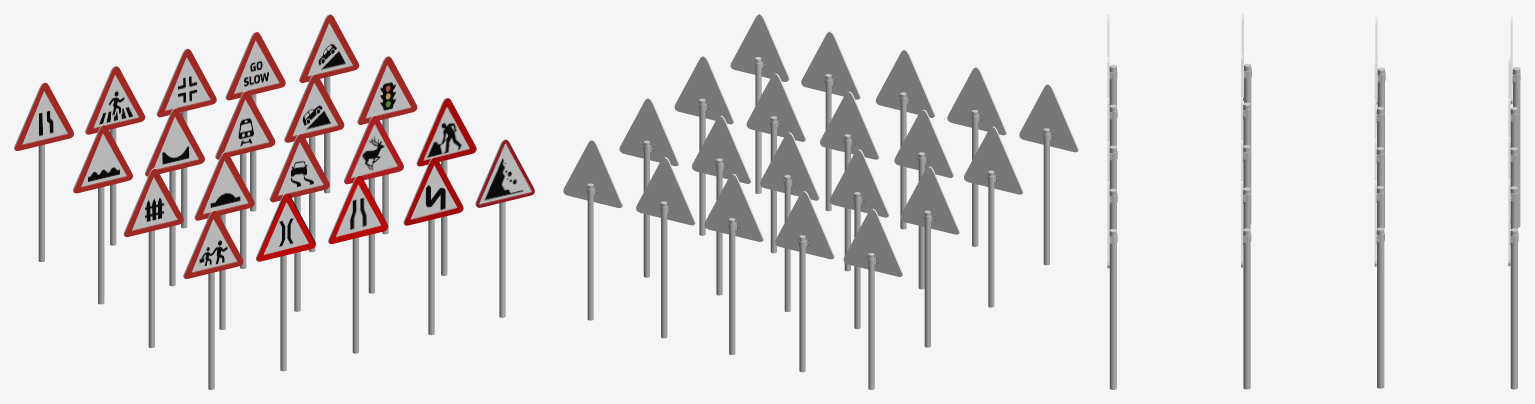
The model's file is warning_traffic_signs (1).glb.
3 views of the same model, side by side, from view 1: azimuth 30°, elevation 25°; view 2: azimuth 150°, elevation 25°; view 3: azimuth 270°, elevation 25° (orthographic). The views are drawn at different scales.
Visible parts, largest first — view 1: Cube.019_19, Cube_0, Cube.017_17, Cube.001_1, Cube.002_2, Cube.003_3, Cube.018_18, Cube.016_16, Cube.014_14, Cube.004_4, Cube.013_13, Cube.007_7 (+27 smaller); view 2: Cube.016_16, Cube.012_12, Cube.015_15, Cube.018_18, Cube.017_17, Cube.019_19, Cube.014_14, Cube.013_13, Cube.011_11, Cube_0, Cube.002_2, Cube.001_1 (+28 smaller); view 3: Cylinder.008_28, Cylinder.004_24, Cylinder.012_32, Cylinder_20, Cylinder.016_36, Cylinder.018_38, Cylinder.017_37.
Part boxes in pixels (box(x1,y1,x2,y2)): Cube.019_19: box(183, 210, 243, 278); Cube_0: box(403, 156, 463, 225); Cube.017_17: box(73, 124, 132, 193); Cube.001_1: box(475, 139, 534, 207); Cube.002_2: box(328, 175, 388, 243); Cube.003_3: box(256, 193, 315, 261); Cube.018_18: box(123, 168, 183, 236); Cube.016_16: box(14, 82, 73, 150); Cube.014_14: box(156, 48, 216, 117); Cube.004_4: box(416, 97, 476, 166); Cube.013_13: box(225, 31, 285, 100); Cube.007_7: box(194, 151, 254, 220); Cube.016_16: box(843, 208, 902, 276); Cube.012_12: box(563, 140, 622, 207); Cube.015_15: box(775, 191, 834, 259); Cube.018_18: box(964, 126, 1023, 194); Cube.017_17: box(900, 166, 959, 234); Cube.019_19: box(1019, 84, 1078, 152); Cube.014_14: box(704, 174, 763, 241); Cube.013_13: box(636, 157, 695, 225); Cube.011_11: box(829, 149, 889, 217); Cube_0: box(801, 31, 860, 99); Cube.002_2: box(875, 49, 934, 117); Cube.001_1: box(730, 14, 789, 81); Cylinder.008_28: box(1376, 227, 1384, 388); Cylinder.004_24: box(1243, 228, 1251, 389); Cylinder.012_32: box(1510, 228, 1518, 389); Cylinder_20: box(1109, 229, 1117, 389); Cylinder.016_36: box(1512, 67, 1520, 227); Cylinder.018_38: box(1244, 63, 1251, 223); Cylinder.017_37: box(1377, 67, 1385, 227).
Size of the model in its own units: 35.47 by 17.28 by 30.96.
23 materials, 20 textured.
